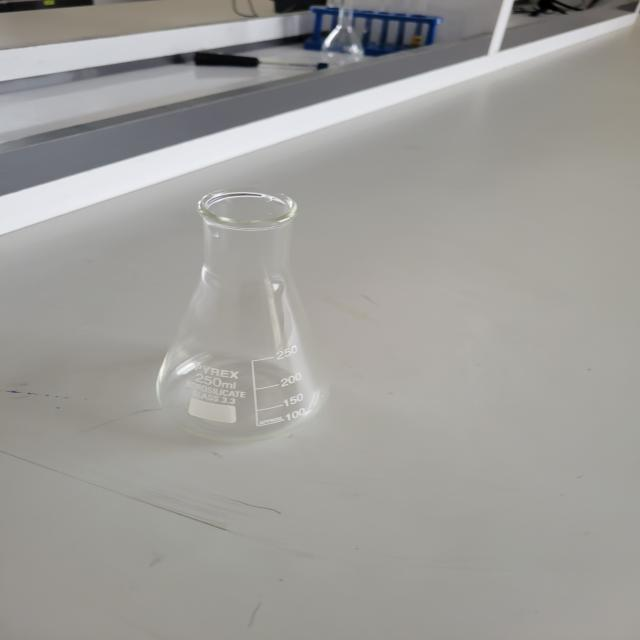Conical_Flask: (125, 154, 358, 464)
